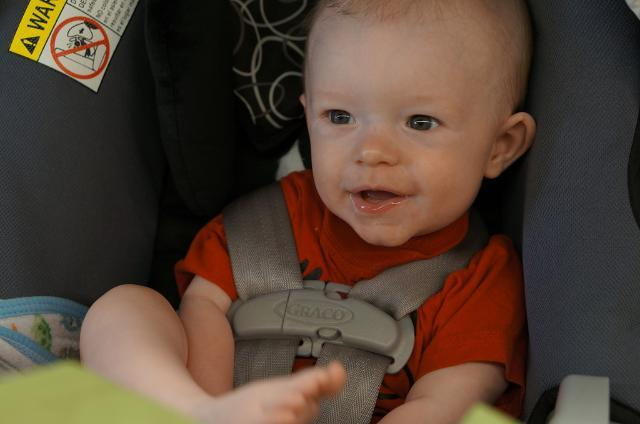SafeDriving: (388, 98, 459, 140), (310, 92, 370, 136)
Seatbelt: (216, 182, 304, 388)
